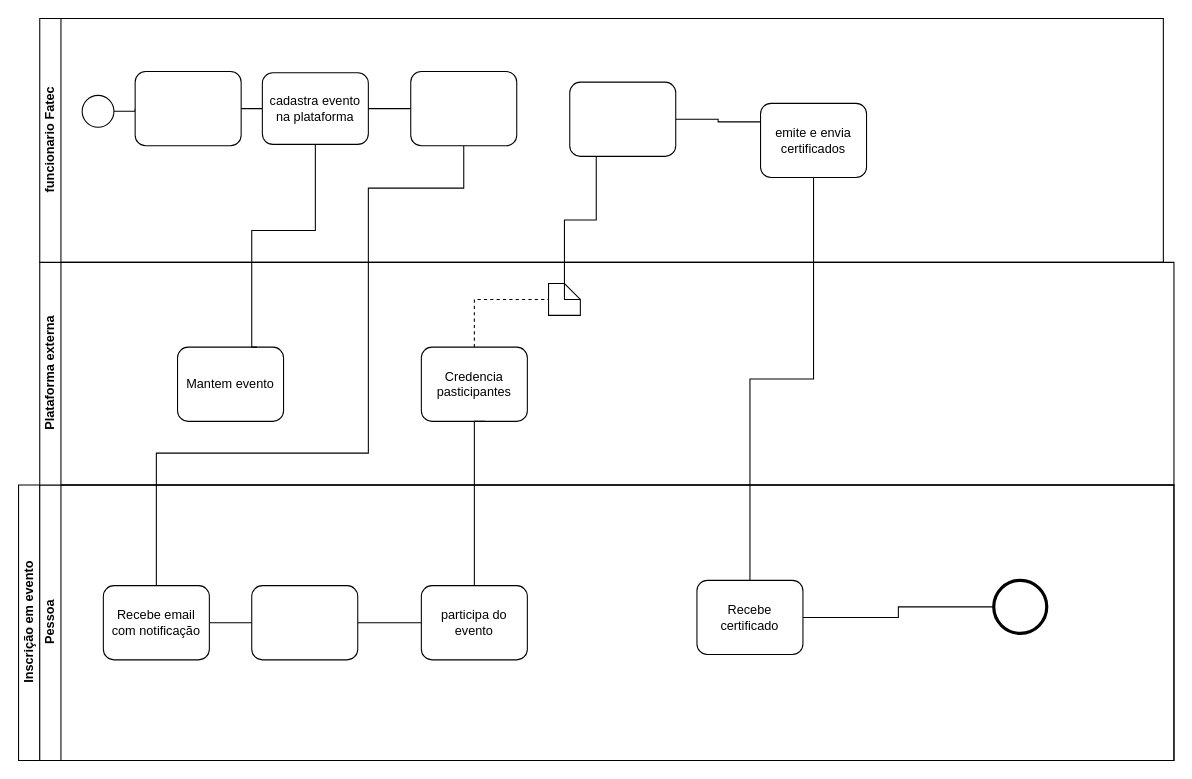
Some shapes in this 1192 by 779 pixel diagram are drawn without their labels. The shapes that lost their labels are listed below. From the top down, each one's centre as x and y in pixels, then its label:
At pixel 187 108: "Cria evento".
At pixel 463 108: "envia notificação de evento".
At pixel 622 118: "Recebe lista de participantes".
At pixel 563 298: "Lista de participantes".
At pixel 304 622: "Se cadastra em plaforma externa".
